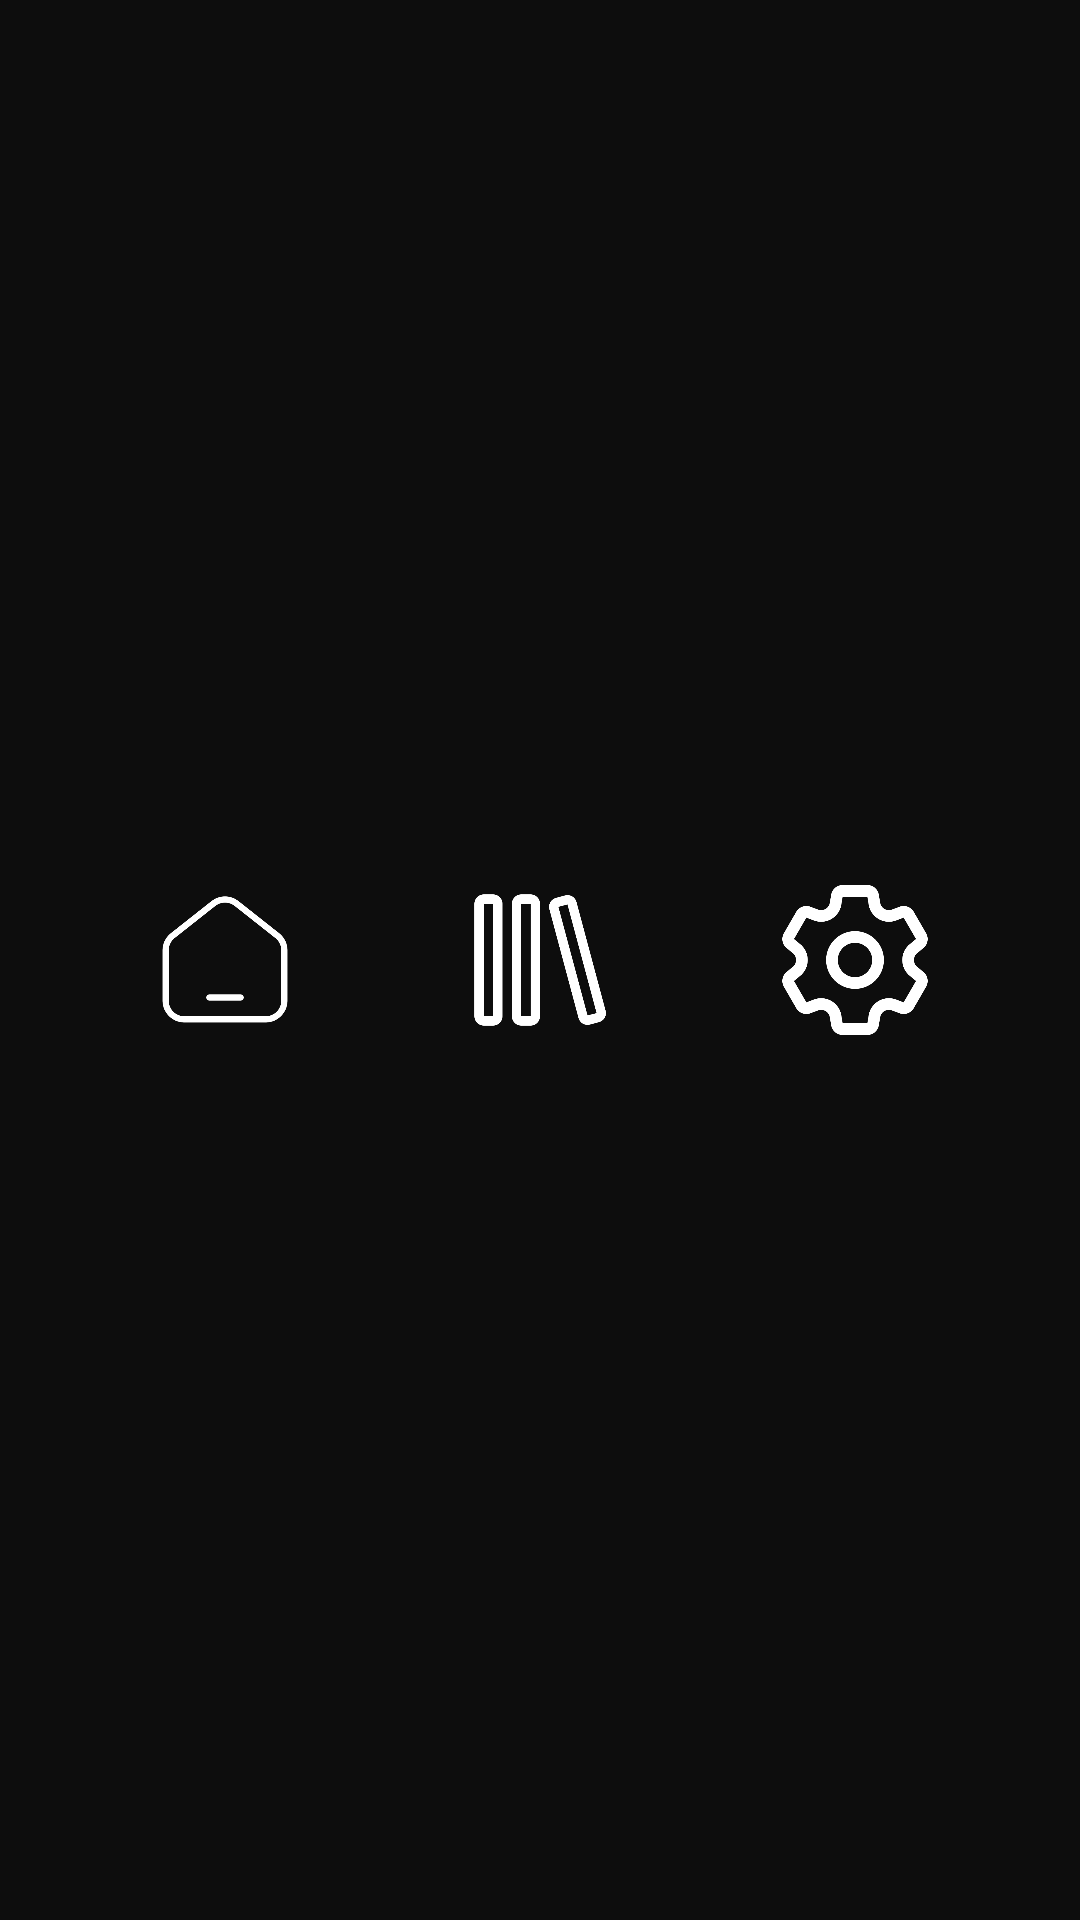

Point at icon controls on the screen. Image size 1080px×1920px, points as [x,y].
homewh: [225,959]
setting: [855,960]
